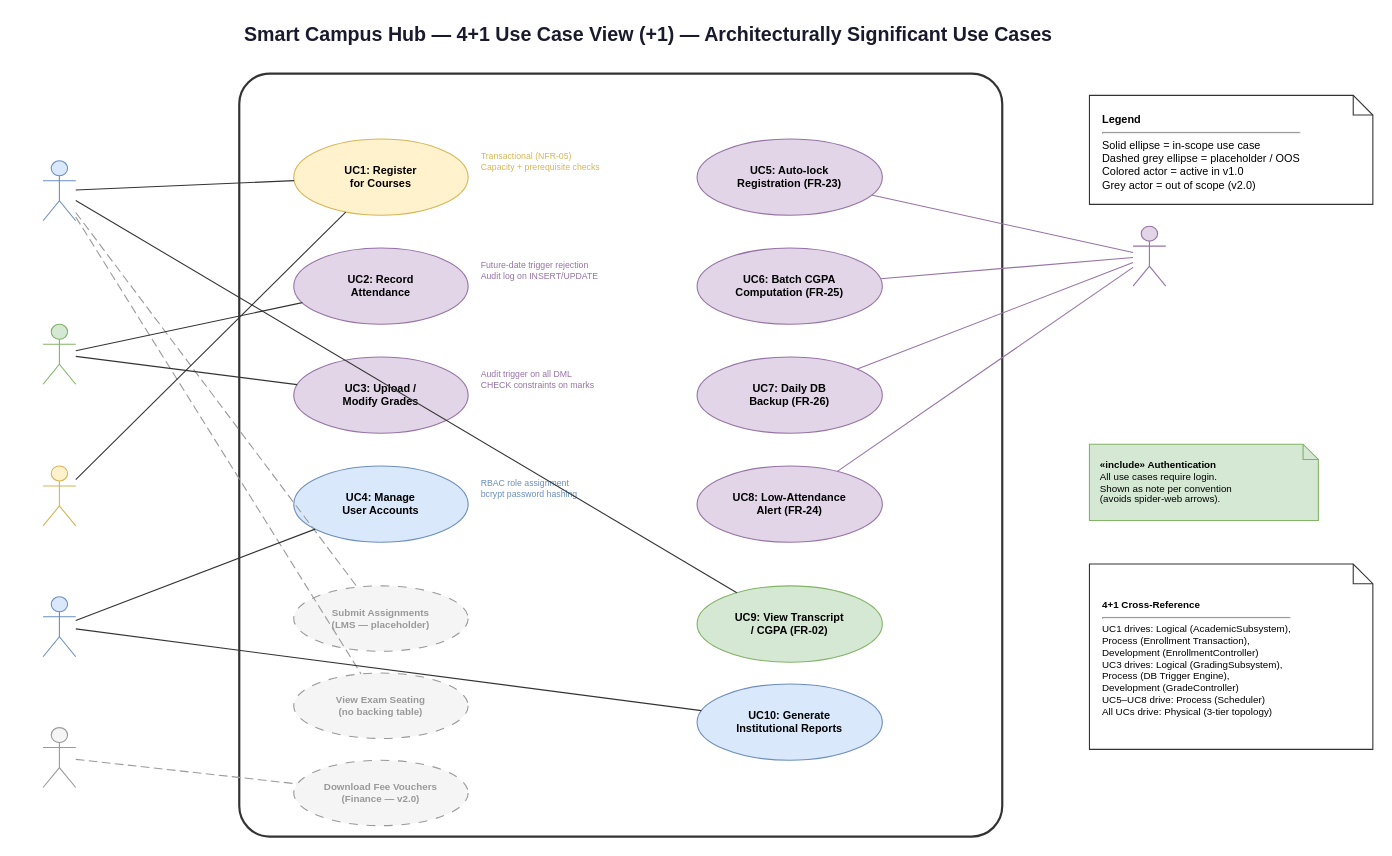
The diagram is 1392 pixels wide and 856 high, and some of its shapes have lost their labels. Here are the shapes that lost their labels. From the top down, the box of each, then its label:
(42, 160, 76, 221): Student
(1132, 225, 1166, 286): System / Timer
(42, 323, 76, 384): Faculty
(238, 72, 1003, 837): «system» Smart Campus Hub
(42, 465, 76, 526): Advisor / HOD
(42, 596, 76, 657): Administrator
(42, 726, 76, 788): Finance Officer (OUT OF SCOPE)
